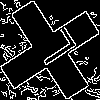L: (25, 25, 79, 74)
